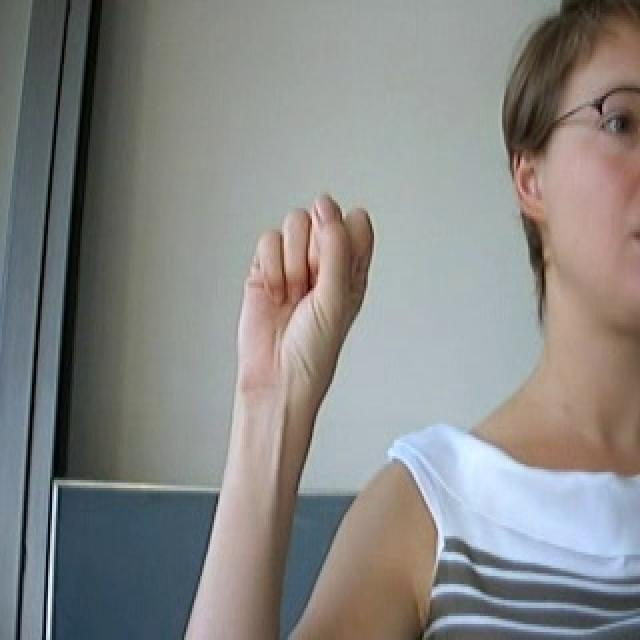S: (227, 179, 384, 398)
